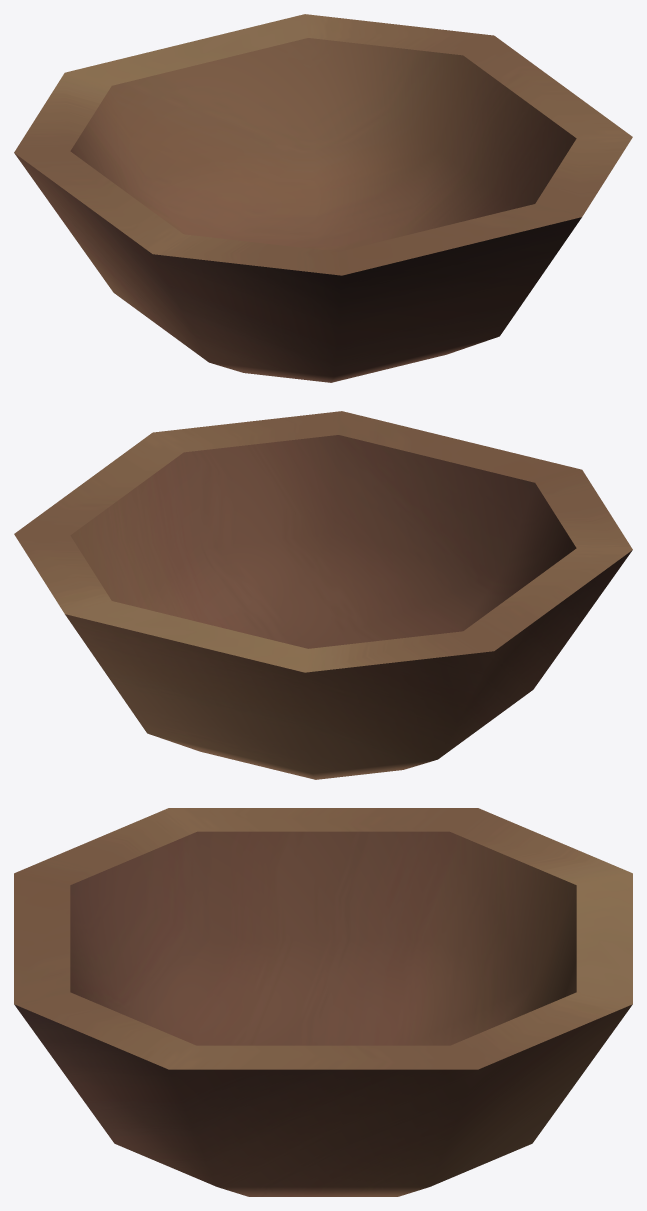
File: bowl_wood.fbx
The picture shows the model from 3 angles, top to bottom: view 1: azimuth 30°, elevation 25°; view 2: azimuth 150°, elevation 25°; view 3: azimuth 270°, elevation 25°; orthographic projection. The views are drawn at different scales.
Parts seen in each view (by area): view 1: bowl_wood; view 2: bowl_wood; view 3: bowl_wood.
Part boxes in pixels (box(x1,y1,x2,y2)): bowl_wood: box(14, 14, 632, 382); bowl_wood: box(14, 411, 632, 779); bowl_wood: box(14, 808, 632, 1196).
Size of the model in its own units: 47.46 by 16.62 by 47.46.
